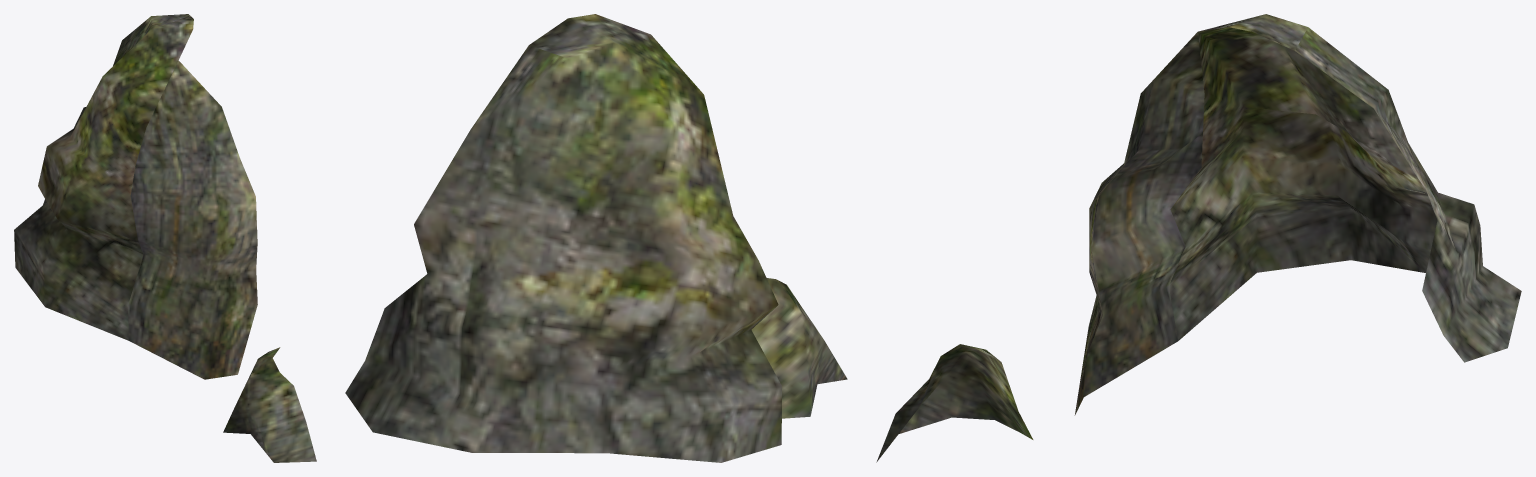
File: S_Rock_Green023_A1.FBX
The picture shows the model from 3 angles, left to right: view 1: azimuth 30°, elevation 25°; view 2: azimuth 150°, elevation 25°; view 3: azimuth 270°, elevation 25°; orthographic projection. The views are drawn at different scales.
Visible parts, largest first — view 1: S_Rock_Green023_A1; view 2: S_Rock_Green023_A1; view 3: S_Rock_Green023_A1.
Boxes of the visible parts, x1,y1,x2,y2 form: S_Rock_Green023_A1: (14,14,316,462); S_Rock_Green023_A1: (345,14,847,462); S_Rock_Green023_A1: (876,14,1521,462).
Bounding box in the file's own units: 244 × 354 × 468.
